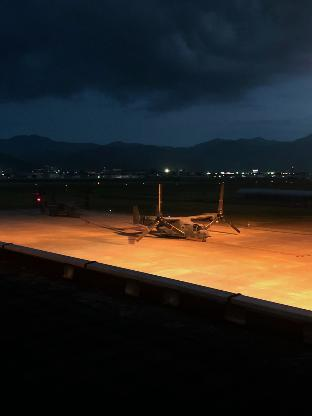Tornado: (132, 183, 240, 242), (30, 188, 100, 218)
